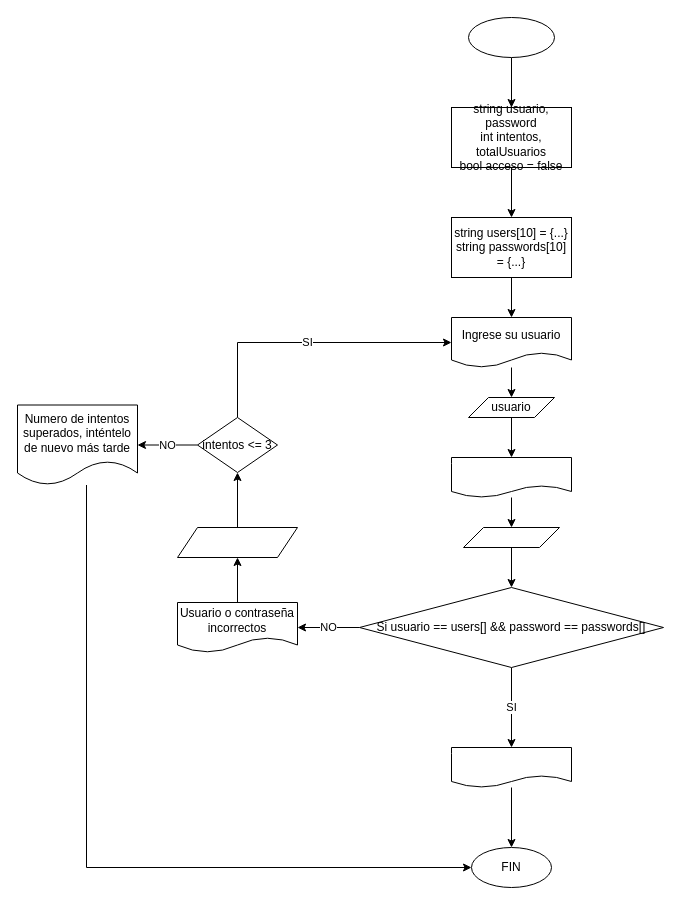
This 681x905 diagram has some shape labels left out. The shapes that lost their labels are listed below. From the top down, each one's box as (x1, y1, x2, y2) in pixels, then its label:
(468, 16, 554, 58): INICIO
(450, 456, 572, 498): Ingrese su contraseña
(176, 526, 298, 558): intentos++
(462, 526, 560, 548): password
(450, 746, 572, 788): BIENVENIDO
